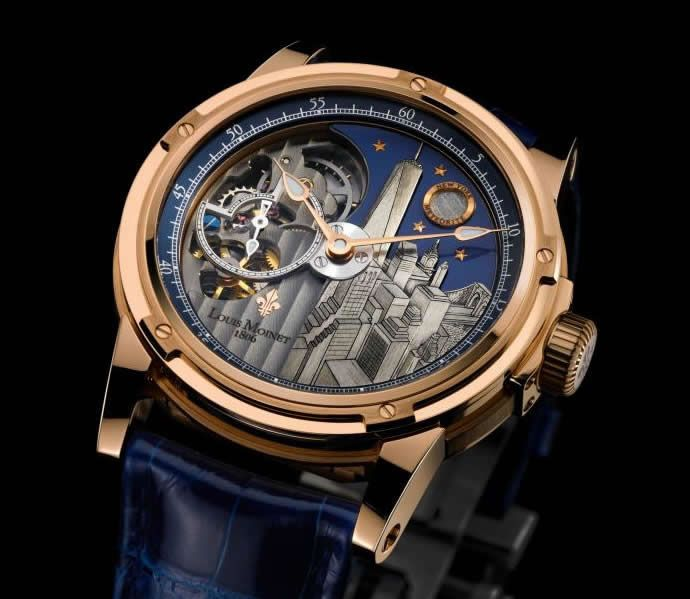clock: (119, 62, 566, 446)
